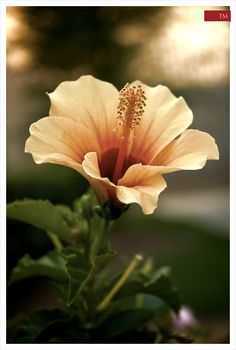Hibiscus: (21, 47, 222, 254)
